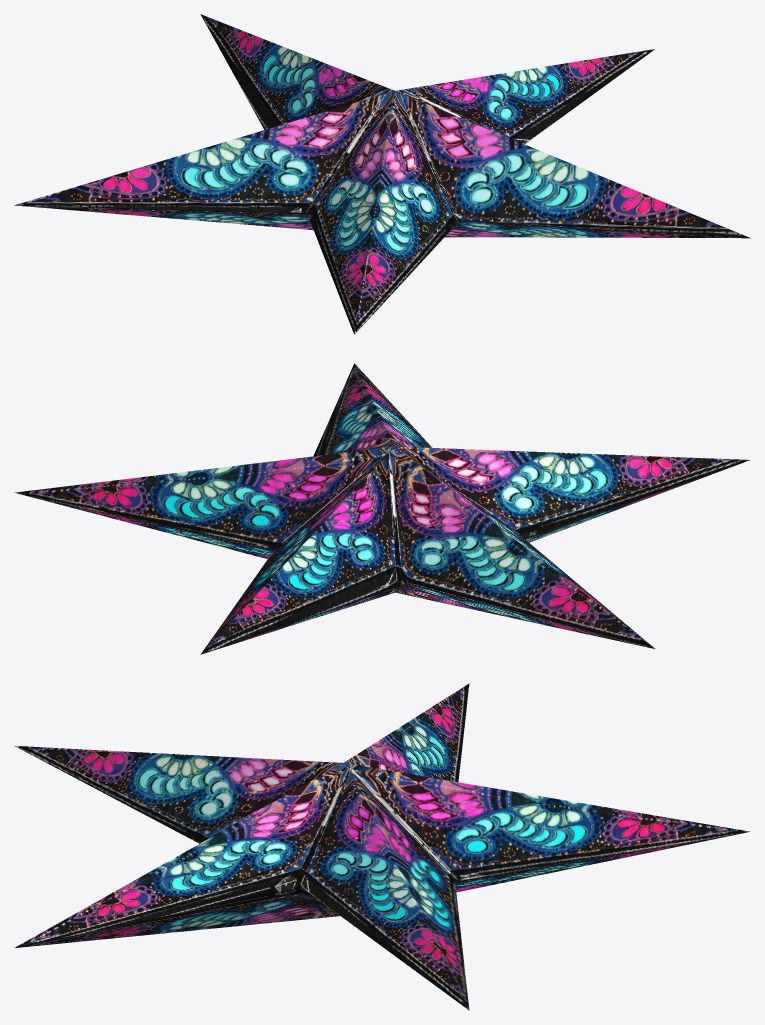
The model's file is Star.glb.
3 views of the same model, one above another, from view 1: azimuth 30°, elevation 25°; view 2: azimuth 150°, elevation 25°; view 3: azimuth 270°, elevation 25° (orthographic). The views are drawn at different scales.
Visible parts, largest first — view 1: Circle; view 2: Circle; view 3: Circle.
Boxes of the visible parts, x1=… form: Circle: x1=14, y1=14, x2=750, y2=334; Circle: x1=15, y1=363, x2=749, y2=654; Circle: x1=14, y1=683, x2=749, y2=1010.
Bounding box in the file's own units: 1.9 × 0.414 × 1.81.
Materials: 1 (1 with a texture image).
